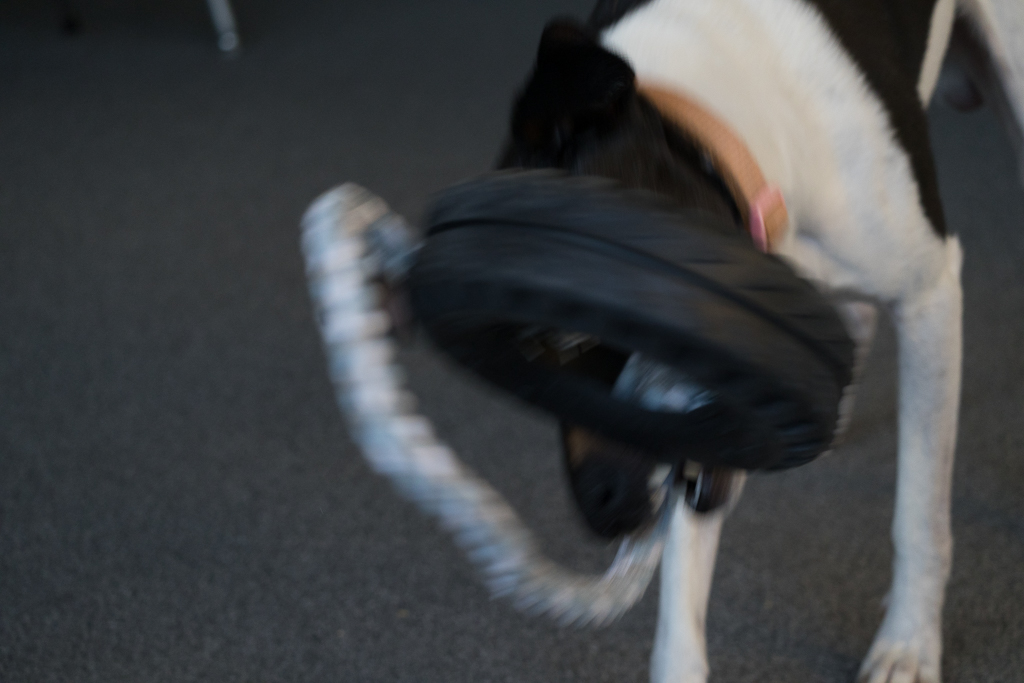Dog: (467, 0, 1024, 683)
